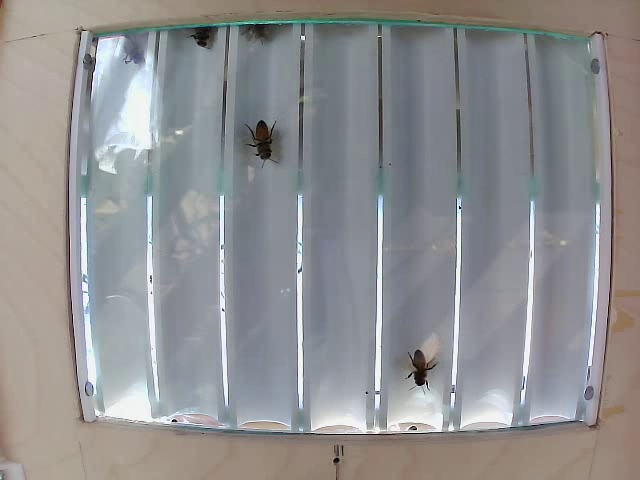bee: (397, 333, 439, 389), (246, 106, 279, 175)
